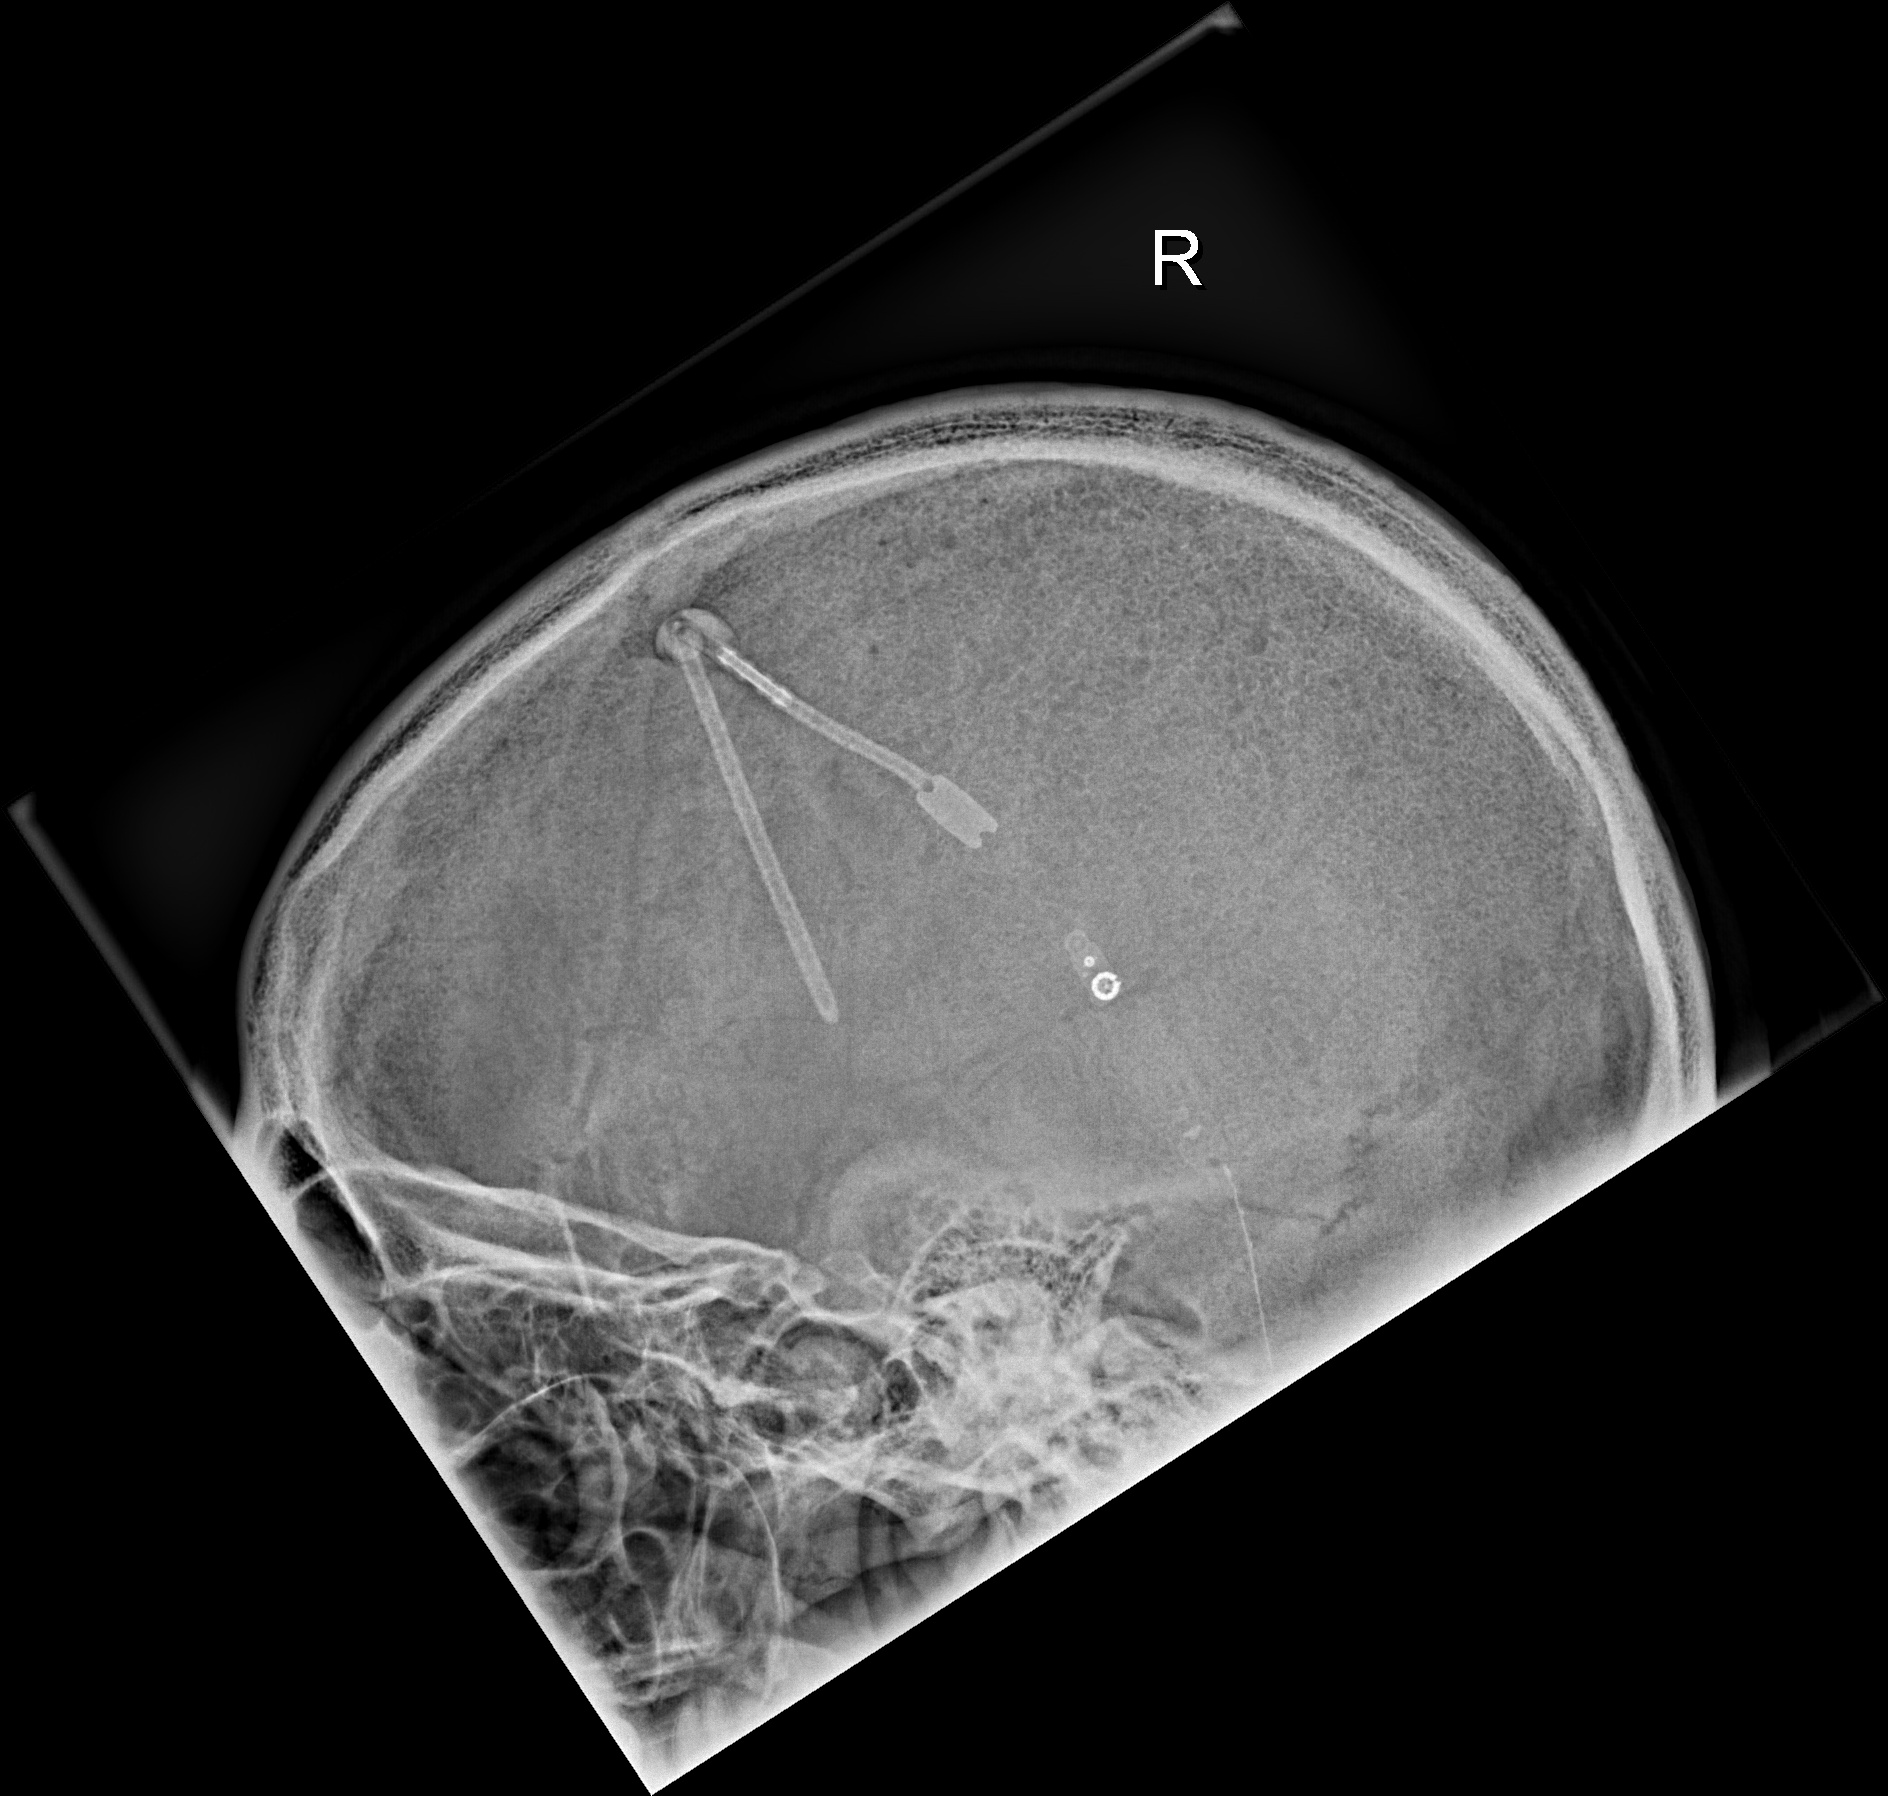Codman Hakim: (1069, 948, 1133, 1015)
